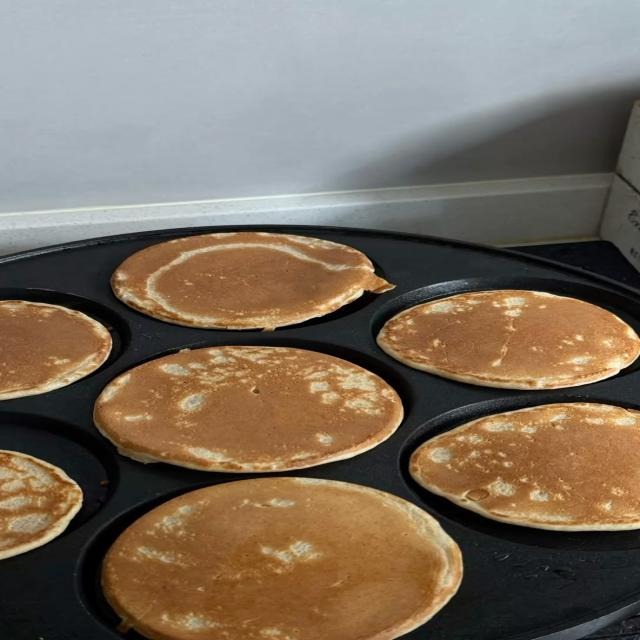pancake: (102, 478, 461, 639), (94, 347, 402, 472), (411, 403, 639, 530), (112, 232, 393, 329), (378, 291, 639, 389), (0, 301, 111, 400), (0, 451, 82, 559)
